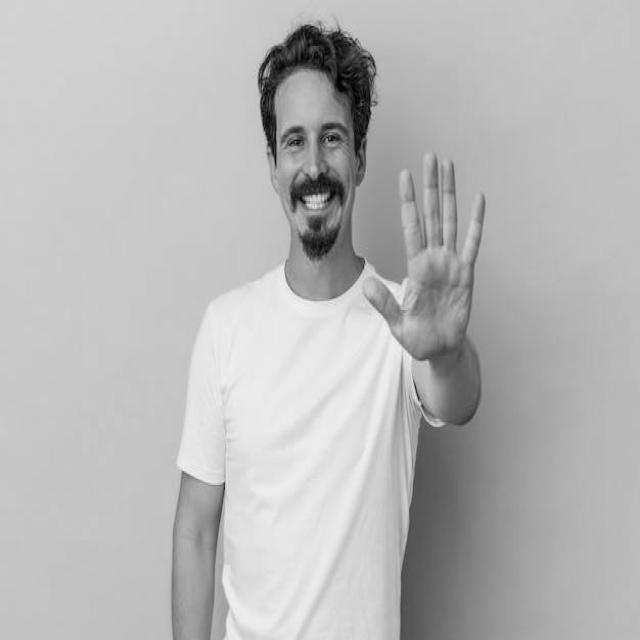stop: (357, 143, 492, 372)
